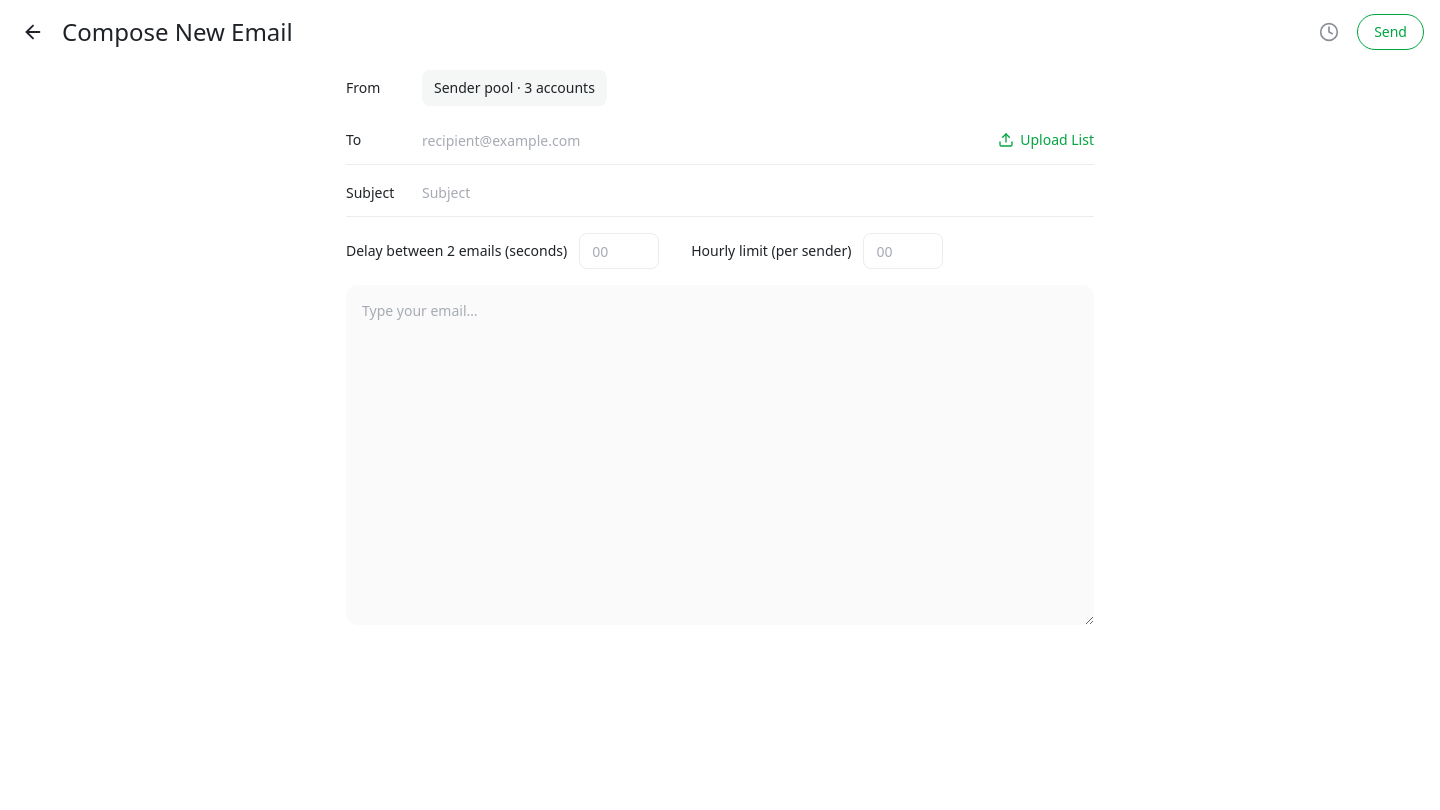
Test case: Send / Send Later › Cancel keeps the previous choice
Click the button named "Schedule send time" at (1329, 32), box x1=1313 y1=16 x2=1345 y2=48
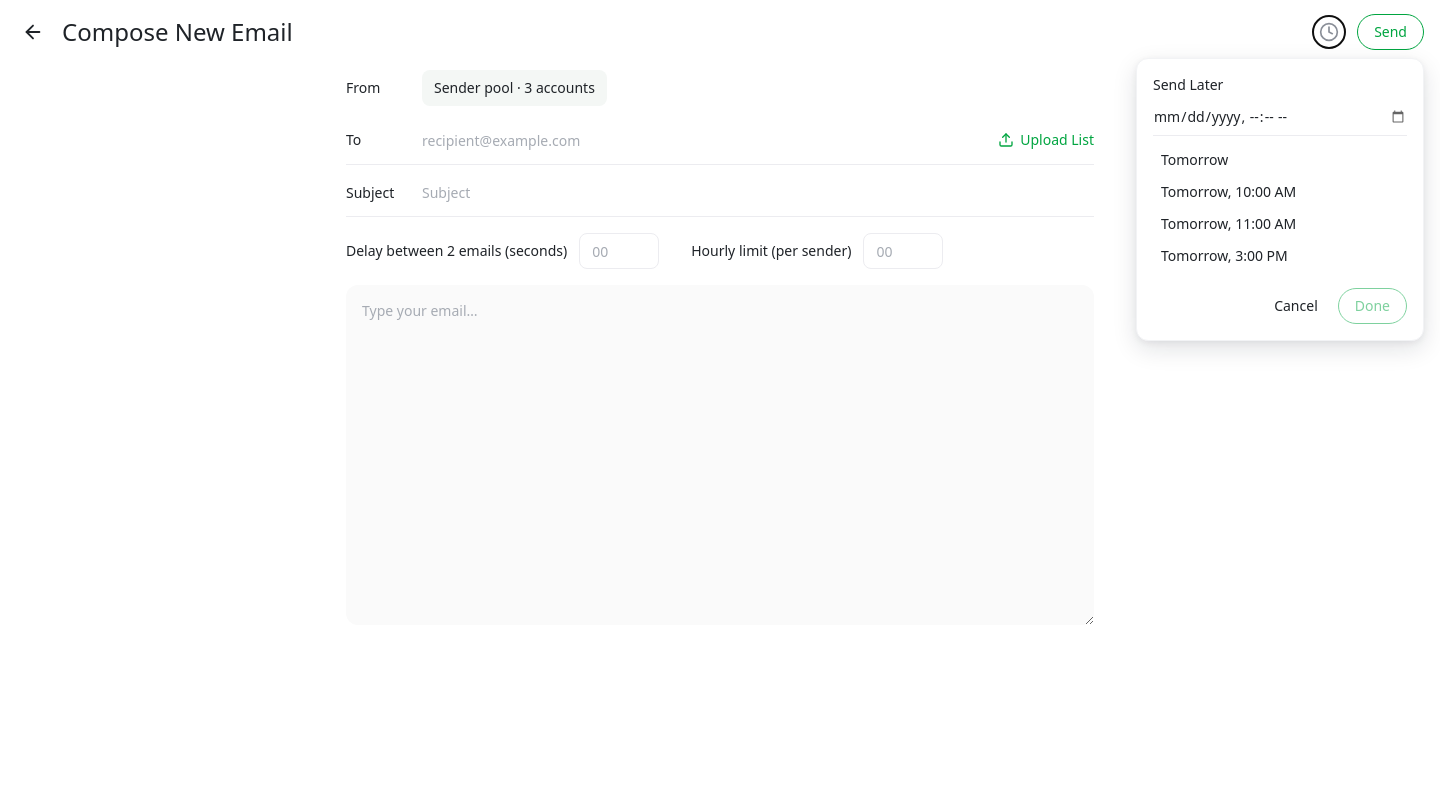
Click the button "Tomorrow, 3:00 PM" at (1280, 256), box x1=1153 y1=240 x2=1407 y2=272
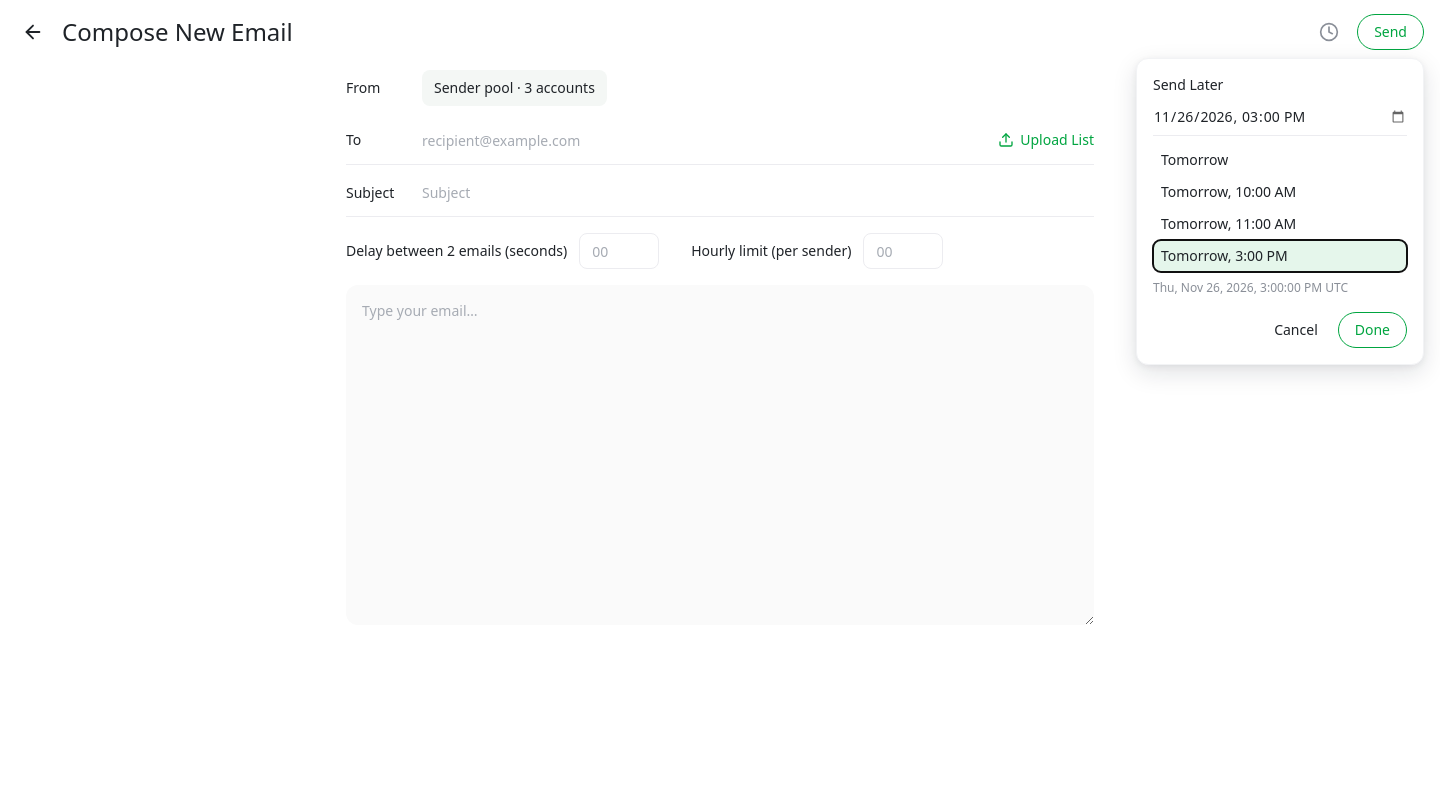
Click the button "Cancel" at (1296, 330), box x1=1262 y1=312 x2=1330 y2=348
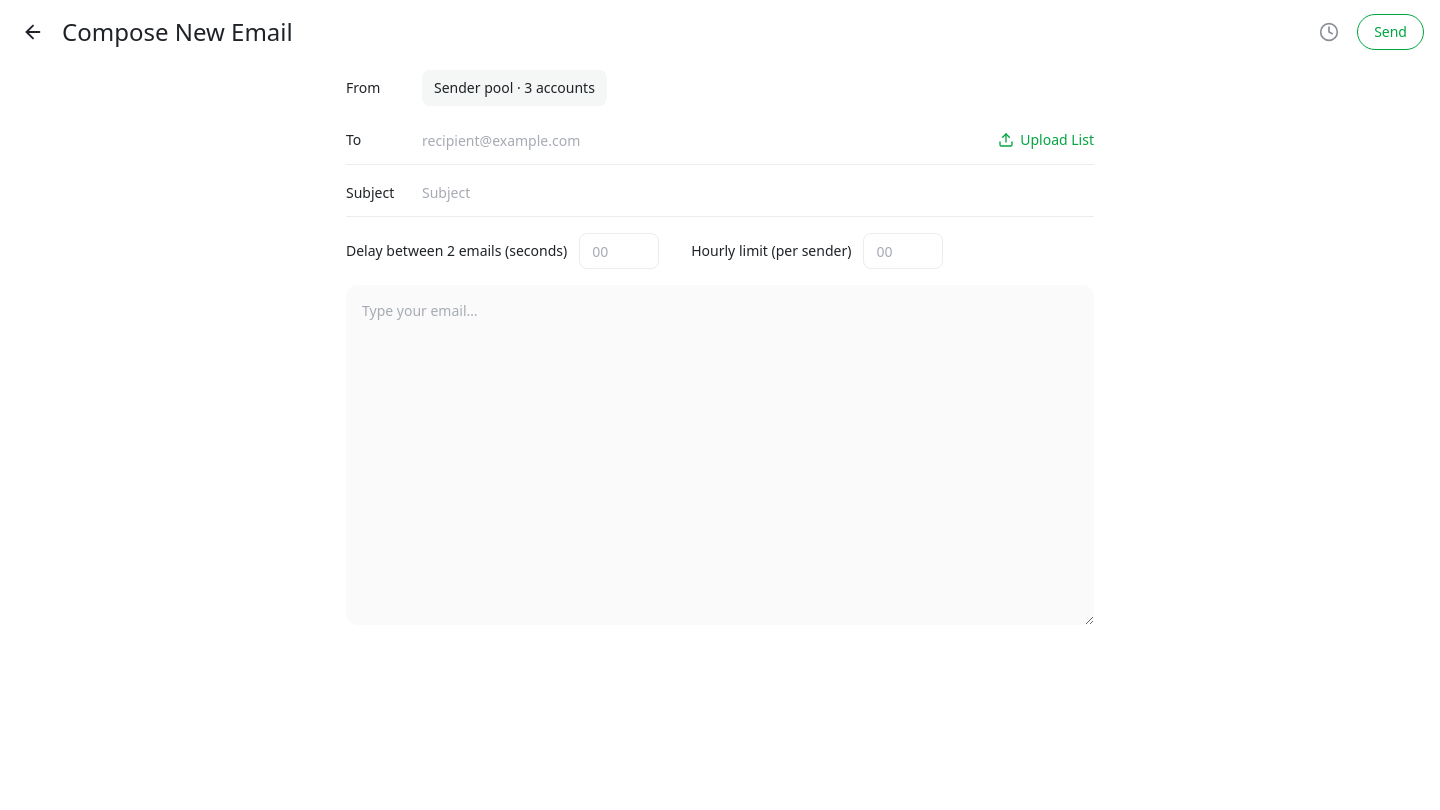
expect the button "Send" is shown: met, box x1=1357 y1=14 x2=1424 y2=50
expect the dialog is gone: met
